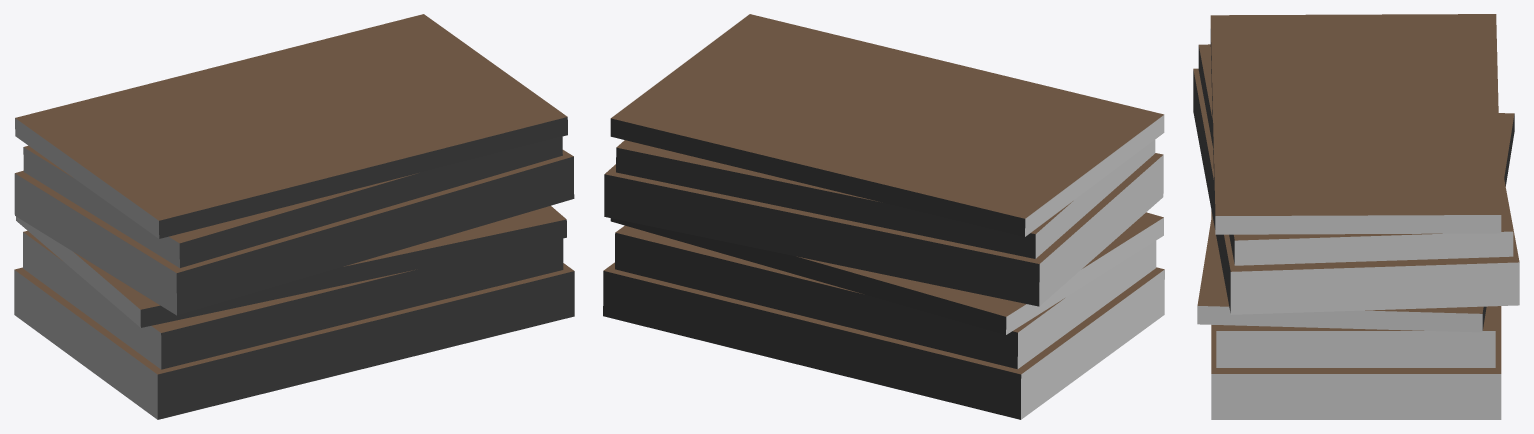
The model's file is book_stack_0.glb.
3 views of the same model, side by side, from view 1: azimuth 30°, elevation 25°; view 2: azimuth 150°, elevation 25°; view 3: azimuth 270°, elevation 25° (orthographic).
Visible parts, largest first — view 1: book_stack; view 2: book_stack; view 3: book_stack.
Part boxes in pixels (x1=…): book_stack: x1=14, y1=14, x2=574, y2=419; book_stack: x1=603, y1=14, x2=1164, y2=419; book_stack: x1=1193, y1=14, x2=1519, y2=419.
Bounding box in the file's own units: 0.4698 × 0.2075 × 0.302.
